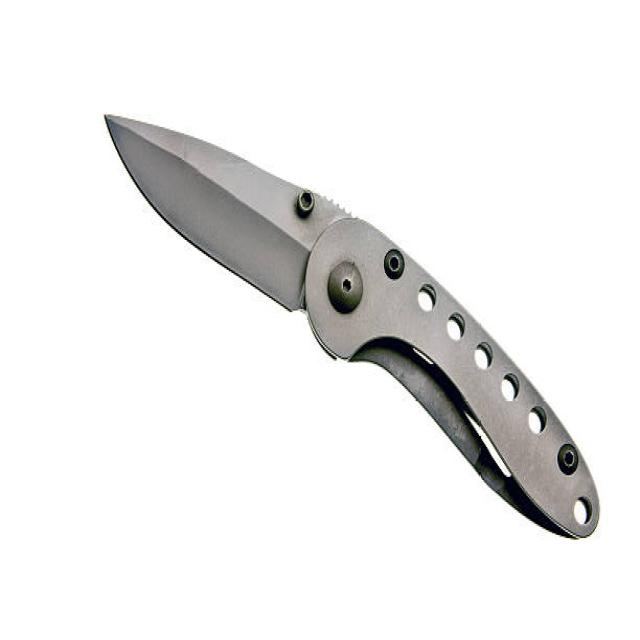knife: (101, 103, 607, 543)
